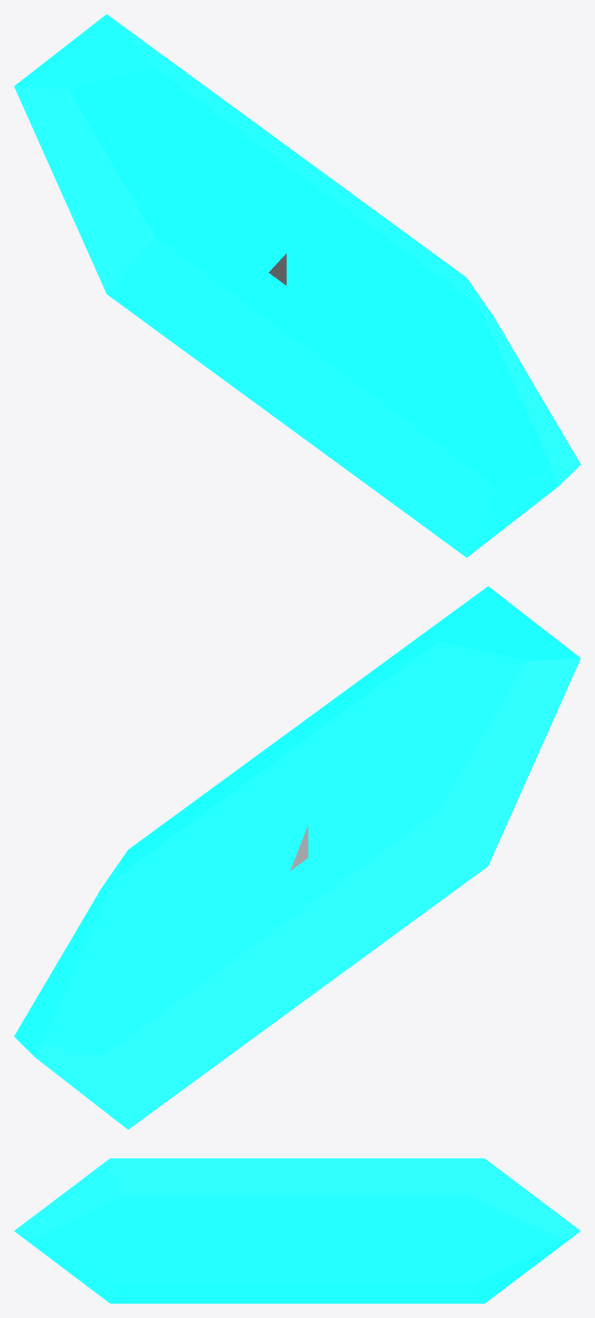
Rendered from skirt_neon_diamond.glb.
The picture shows the model from 3 angles, top to bottom: view 1: azimuth 30°, elevation 25°; view 2: azimuth 150°, elevation 25°; view 3: azimuth 270°, elevation 25°; orthographic projection. The views are drawn at different scales.
Parts seen in each view (by area): view 1: MOTIF_diamond_neon; view 2: MOTIF_diamond_neon; view 3: MOTIF_diamond_neon.
Part boxes in pixels (x1=…): MOTIF_diamond_neon: x1=14, y1=14, x2=580, y2=557; MOTIF_diamond_neon: x1=14, y1=586, x2=580, y2=1129; MOTIF_diamond_neon: x1=14, y1=1158, x2=580, y2=1303.
Size of the model in its own units: 0.012 by 0.085 by 0.3.
